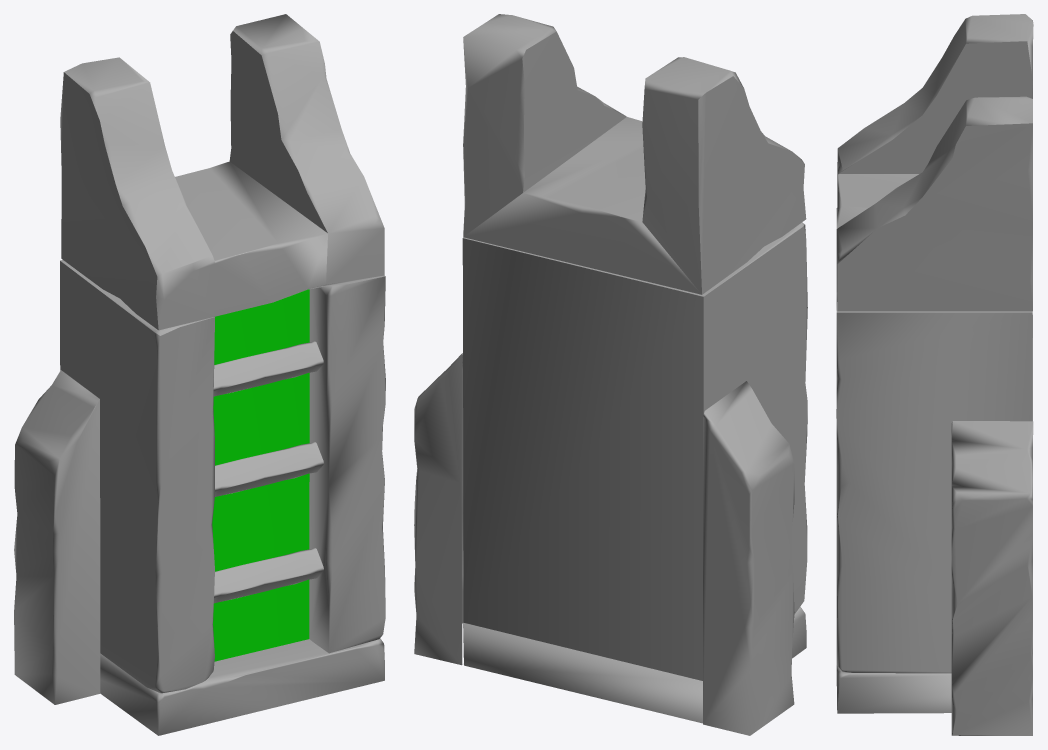
File: SM_InkWells_low.fbx
3 views of the same model, side by side, from view 1: azimuth 30°, elevation 25°; view 2: azimuth 150°, elevation 25°; view 3: azimuth 270°, elevation 25° (orthographic). The views are drawn at different scales.
Parts seen in each view (by area): view 1: SM_InkWell_low; view 2: SM_InkWell_low; view 3: SM_InkWell_low.
Boxes of the visible parts, bbox=[...] form: SM_InkWell_low: bbox=[14, 14, 385, 735]; SM_InkWell_low: bbox=[414, 14, 807, 735]; SM_InkWell_low: bbox=[836, 14, 1033, 735].
Size of the model in its own units: 3.28 by 5.86 by 1.77.
